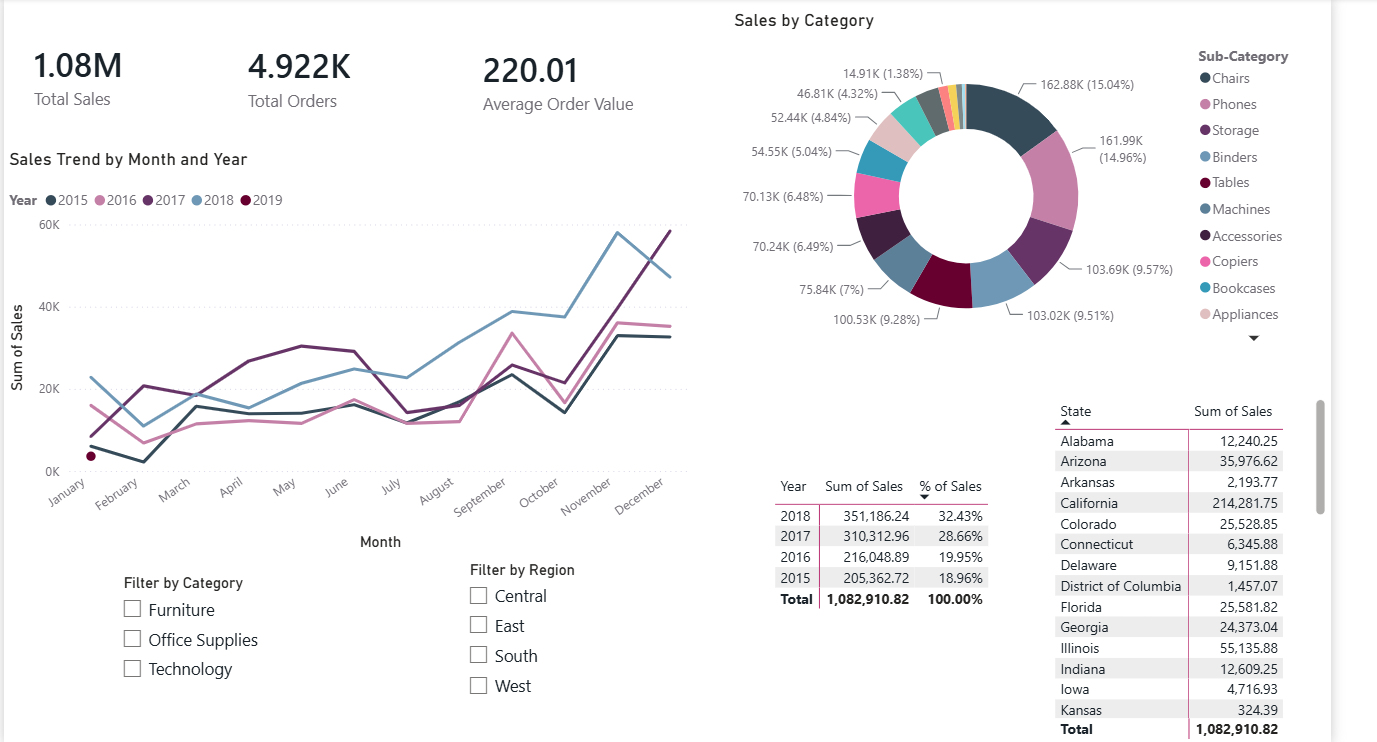

The dashboard page shown, as its layout file describes it:
{"tool":"powerbi","page":{"name":"Sales Analysis","canvas":[1280,720],"ordinal":0},"visuals":[{"type":"donutChart","title":"Sales by Category","fields":{"Category":["DimProduct.Sub-Category"],"Series":["DimProduct.Sub-Category"],"Y":["Sum(Fact.Sales)"]},"box":[699.7,10.9,562.2,330.6],"z":0},{"type":"lineChart","title":"Sales Trend by Month and Year","fields":{"Category":["DimShipment.Ship Date.Variation.Date Hierarchy.Month"],"Series":["DimShipment.Ship Date.Variation.Date Hierarchy.Year"],"Y":["Sum(Fact.Sales)"]},"box":[0,144.8,668.4,393.3],"z":1000},{"type":"cardVisual","title":"Total Sales","fields":{"Data":["DimCustomer.Total Sales"]},"box":[0,0,183.4,149.6],"z":2000},{"type":"slicer","fields":{"Values":["DimProduct.Category"]},"box":[102.5,551.3,161.7,158],"z":3000},{"type":"slicer","fields":{"Values":["DimCustomer.Region"]},"box":[436.7,538.1,148.4,152],"z":4000},{"type":"cardVisual","fields":{"Data":["Count(Fact.Order ID)"]},"box":[206.7,11.4,183.4,130.3],"z":5000},{"type":"cardVisual","fields":{"Data":["DimCustomer.Average Order Value"]},"box":[433.1,6,206.3,147.2],"z":6000},{"type":"pivotTable","fields":{"Rows":["DimDate.Date.Variation.Date Hierarchy.Year"],"Values":["Sum(Fact.Sales)","Divide(Sum(Fact.Sales), ScopedEval(Sum(Fact.Sales), []))"]},"box":[739.8,454.7,222,235.3],"z":7000},{"type":"pivotTable","fields":{"Rows":["DimCustomer.State"],"Values":["Sum(Fact.Sales)"]},"box":[1009.8,382.4,270.2,337.8],"z":8000}]}

Visuals, with their boxes on the page's 1280x720 design canvas (x1, y1, x2, y2). These are canvas units, not pixel positions in the 1377x742 screenshot, which may show the page scaled, cropped or inside an application window:
"Sales by Category" donutChart: {"x1": 700, "y1": 11, "x2": 1262, "y2": 342}
"Sales Trend by Month and Year" lineChart: {"x1": 0, "y1": 145, "x2": 668, "y2": 538}
"Total Sales" cardVisual: {"x1": 0, "y1": 0, "x2": 183, "y2": 150}
slicer - DimProduct.Category: {"x1": 102, "y1": 551, "x2": 264, "y2": 709}
slicer - DimCustomer.Region: {"x1": 437, "y1": 538, "x2": 585, "y2": 690}
cardVisual - Count(Fact.Order ID): {"x1": 207, "y1": 11, "x2": 390, "y2": 142}
cardVisual - DimCustomer.Average Order Value: {"x1": 433, "y1": 6, "x2": 639, "y2": 153}
pivotTable - DimDate.Date.Variation.Date Hierarchy.Year x Sum(Fact.Sales): {"x1": 740, "y1": 455, "x2": 962, "y2": 690}
pivotTable - DimCustomer.State x Sum(Fact.Sales): {"x1": 1010, "y1": 382, "x2": 1280, "y2": 720}
